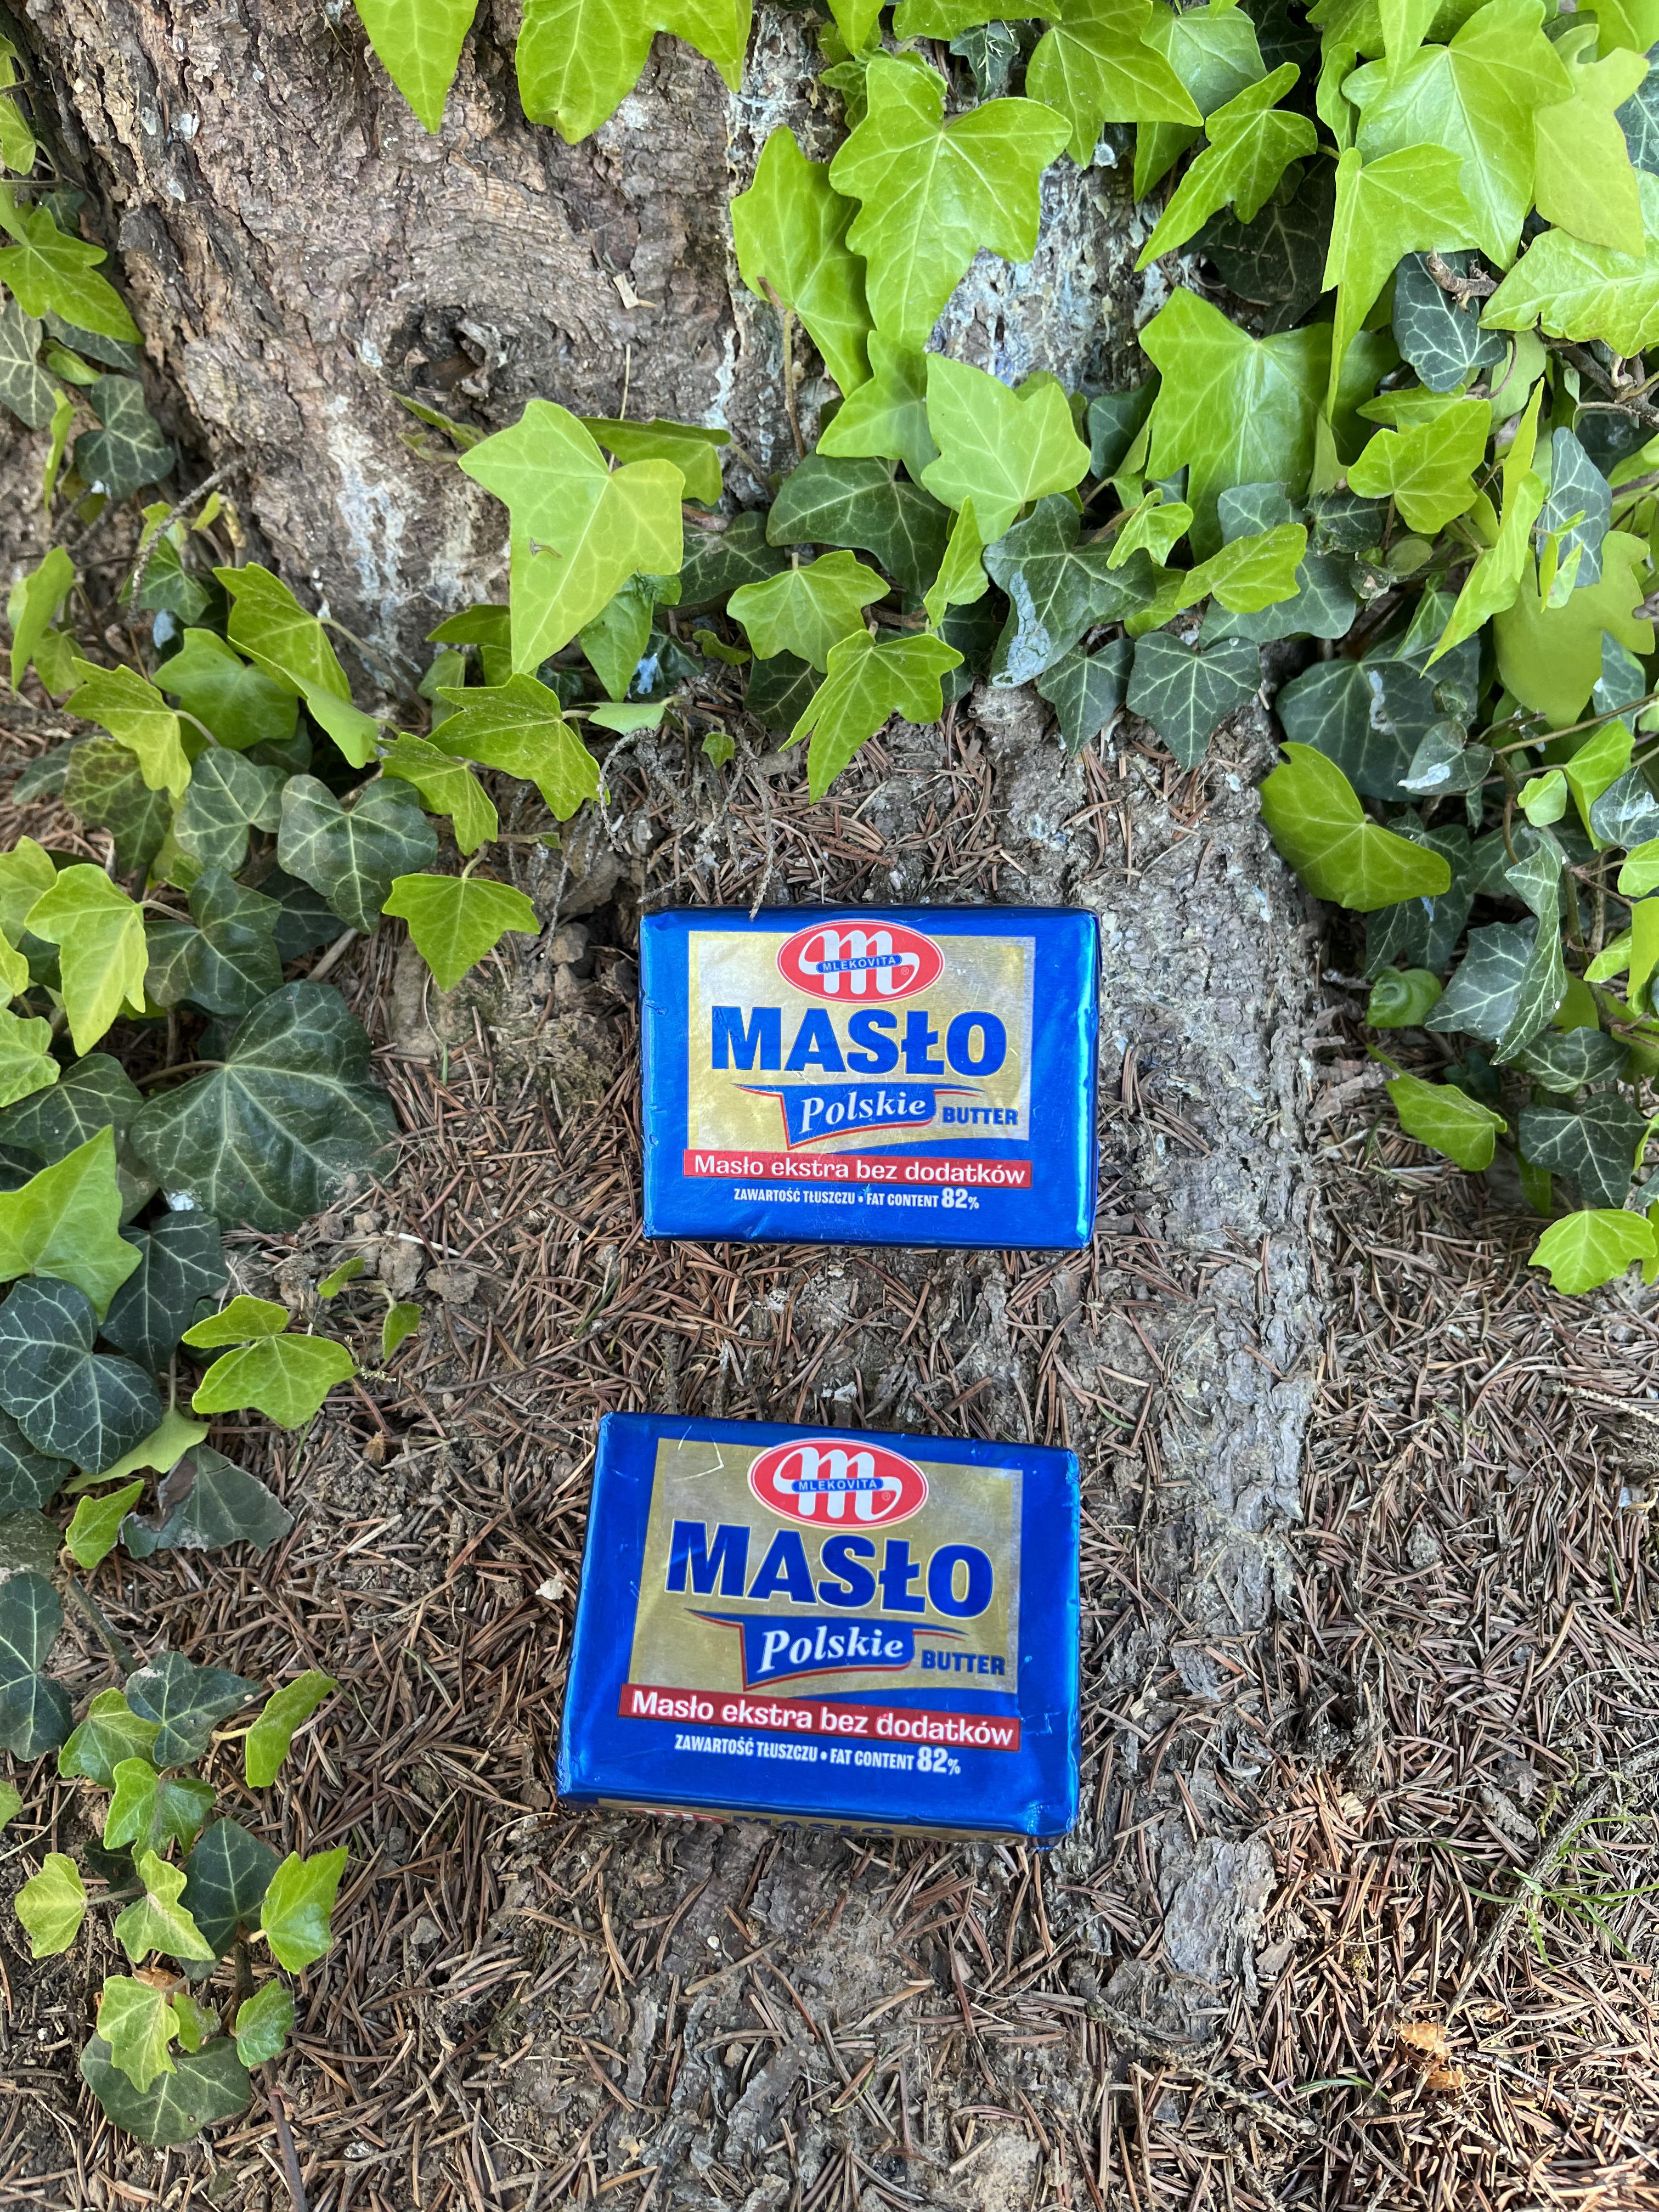Butter: (570, 1400, 1077, 1832), (629, 906, 1098, 1244)
